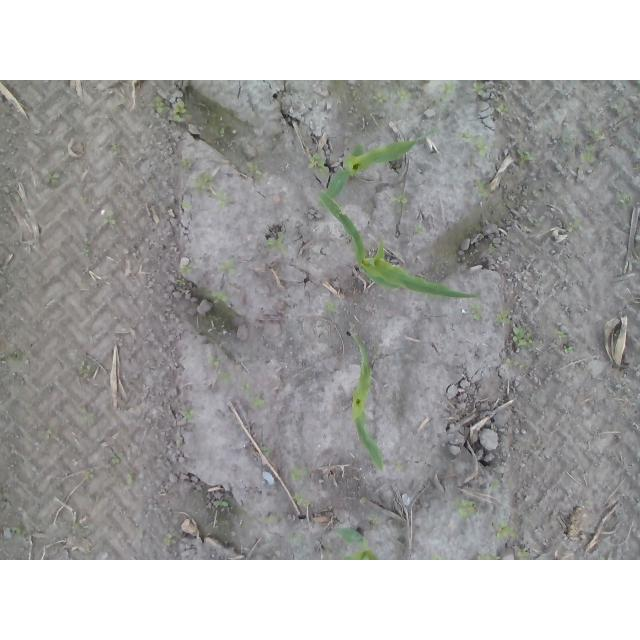Maize: (318, 190, 483, 299), (317, 130, 429, 207), (348, 328, 389, 476), (333, 524, 380, 561)
Weeds: (456, 129, 493, 158), (208, 352, 229, 384), (242, 383, 267, 409), (306, 152, 328, 181), (511, 326, 533, 354), (455, 495, 480, 519), (287, 462, 312, 483), (494, 519, 514, 542), (193, 173, 216, 191), (264, 237, 288, 254), (241, 160, 264, 176), (218, 256, 239, 272), (1, 351, 24, 365), (81, 406, 96, 427), (173, 100, 187, 122), (292, 492, 311, 508), (390, 193, 411, 207), (513, 544, 530, 560), (579, 143, 594, 161), (209, 291, 228, 305), (215, 184, 225, 209), (494, 312, 512, 325), (471, 81, 486, 96), (11, 527, 24, 544), (567, 220, 584, 233), (79, 361, 94, 375), (487, 478, 501, 493), (438, 81, 454, 94), (470, 304, 482, 321), (518, 150, 536, 161), (479, 180, 490, 198), (47, 172, 62, 185), (397, 88, 411, 101), (371, 92, 386, 104), (156, 95, 165, 114), (82, 468, 95, 481), (324, 302, 337, 315), (590, 129, 603, 142), (210, 498, 230, 506), (478, 552, 497, 560), (497, 103, 512, 113), (554, 328, 569, 338), (616, 192, 625, 208), (180, 263, 193, 274), (487, 241, 497, 255), (111, 143, 121, 156), (366, 513, 379, 523), (213, 126, 226, 136), (414, 223, 425, 234), (504, 358, 515, 369), (180, 199, 192, 209), (163, 533, 173, 545), (184, 407, 192, 421), (563, 345, 575, 354), (72, 523, 80, 536), (176, 278, 187, 287), (262, 446, 273, 455), (181, 158, 192, 167), (395, 464, 406, 473), (112, 458, 124, 466), (432, 553, 445, 560), (82, 247, 91, 257), (633, 164, 640, 175), (563, 136, 570, 145)
